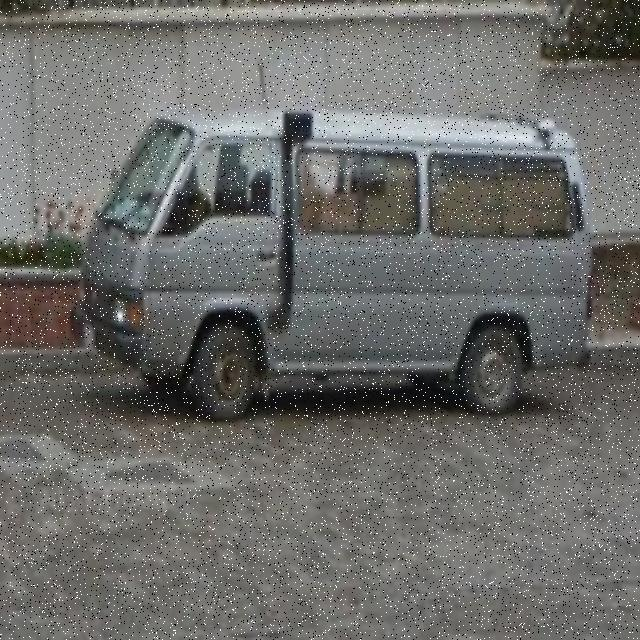cars: (82, 105, 604, 411)
